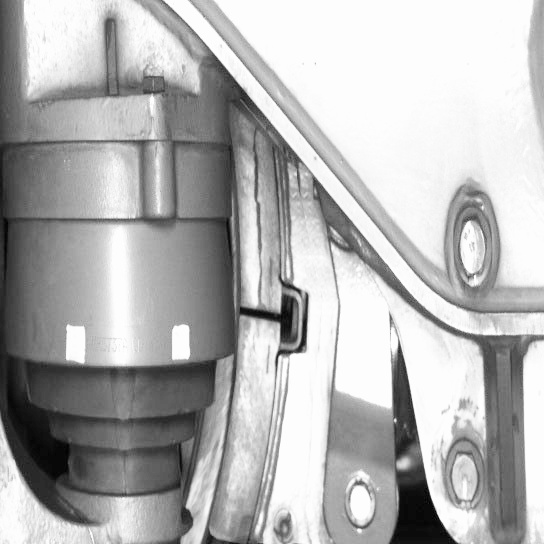ClosedKnifeSwitch: (196, 141, 293, 540)
